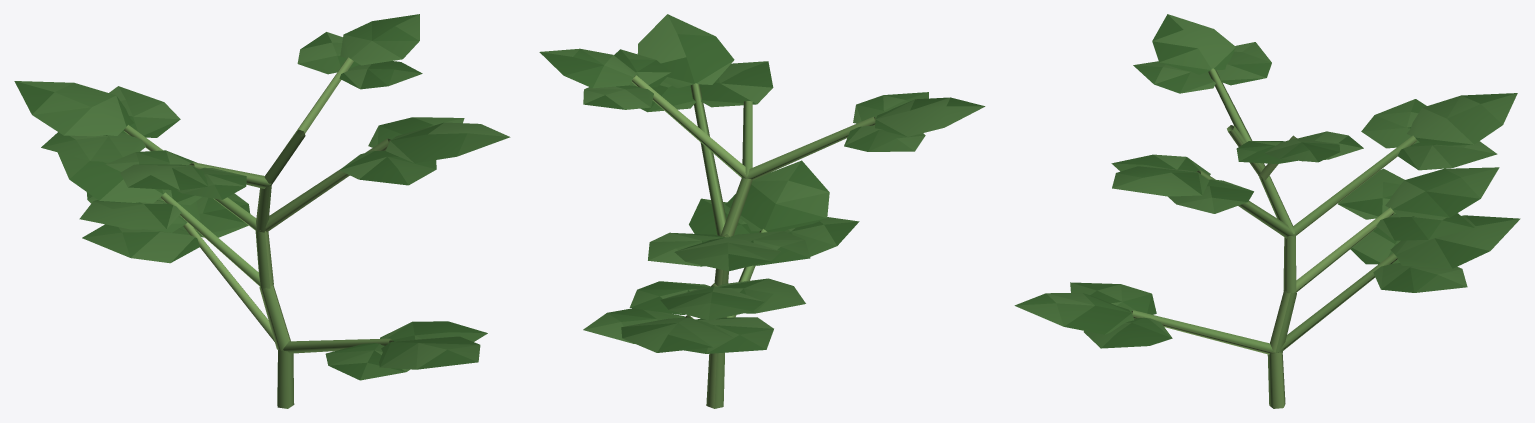
The model's file is haricot_jeune.glb.
3 views of the same model, side by side, from view 1: azimuth 30°, elevation 25°; view 2: azimuth 150°, elevation 25°; view 3: azimuth 270°, elevation 25° (orthographic). The views are drawn at different scales.
Visible parts, largest first — view 1: Haricot_Feuilles, Haricot_Tiges; view 2: Haricot_Feuilles, Haricot_Tiges; view 3: Haricot_Feuilles, Haricot_Tiges.
Part boxes in pixels (x1,y1,x2,y2): Haricot_Feuilles: (14,14,510,380); Haricot_Tiges: (124,57,393,408); Haricot_Feuilles: (539,14,985,353); Haricot_Tiges: (631,75,875,408); Haricot_Feuilles: (1014,14,1520,348); Haricot_Tiges: (1131,68,1416,408).
Bounding box in the file's own units: 0.2139 × 0.1847 × 0.269.
